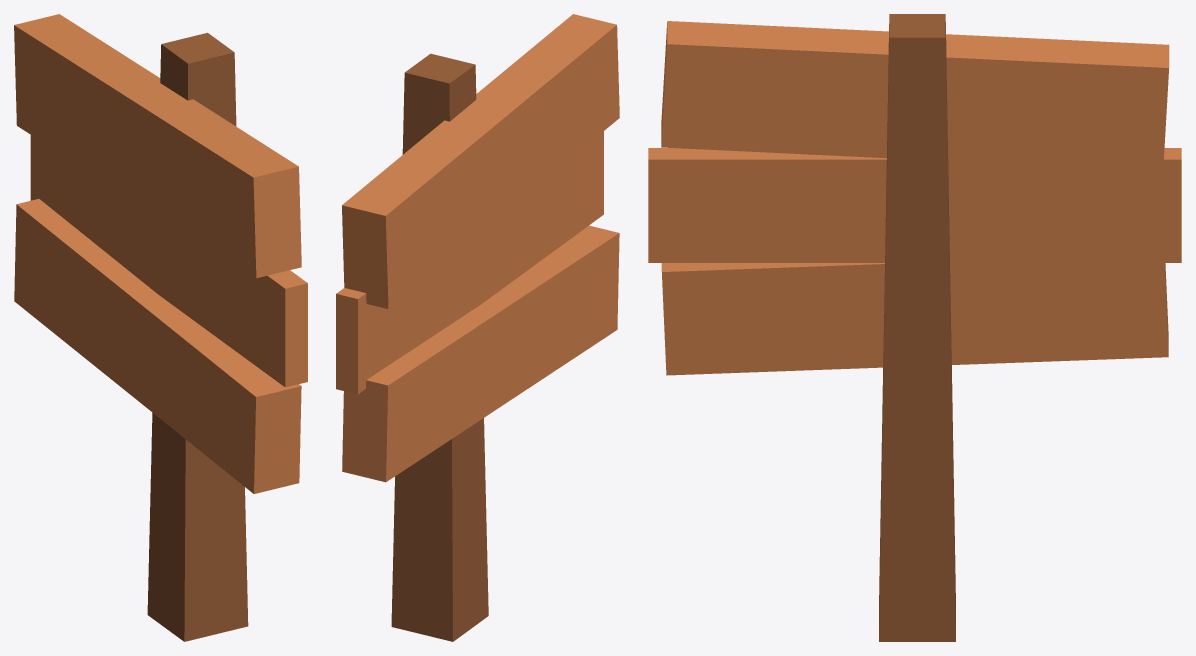
The model's file is sign.dae.
3 renders of one model, left to right at view 1: azimuth 30°, elevation 25°; view 2: azimuth 150°, elevation 25°; view 3: azimuth 270°, elevation 25°, orthographic. The views are drawn at different scales.
Parts seen in each view (by area): view 1: sign; view 2: sign; view 3: sign.
Part boxes in pixels (x1,y1,x2,y2): sign: (14,14,307,641); sign: (336,14,619,641); sign: (648,14,1181,641).
Bounding box in the file's own units: 0.105 × 0.6 × 0.4835.
